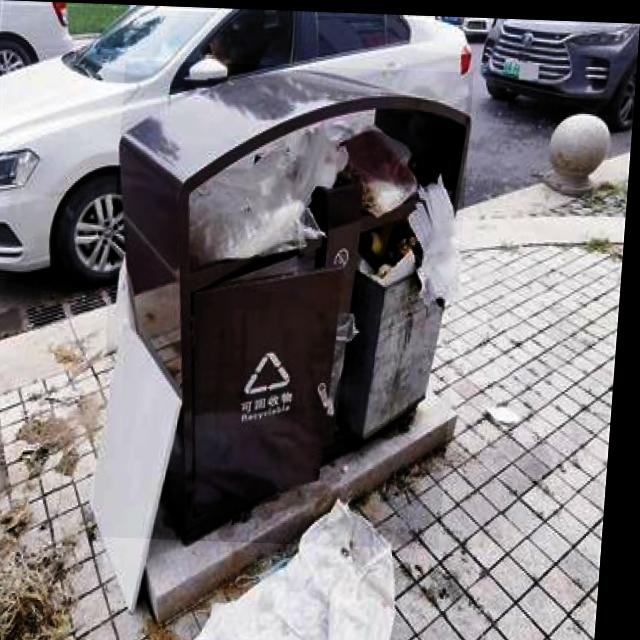overflow: (99, 59, 475, 546)
